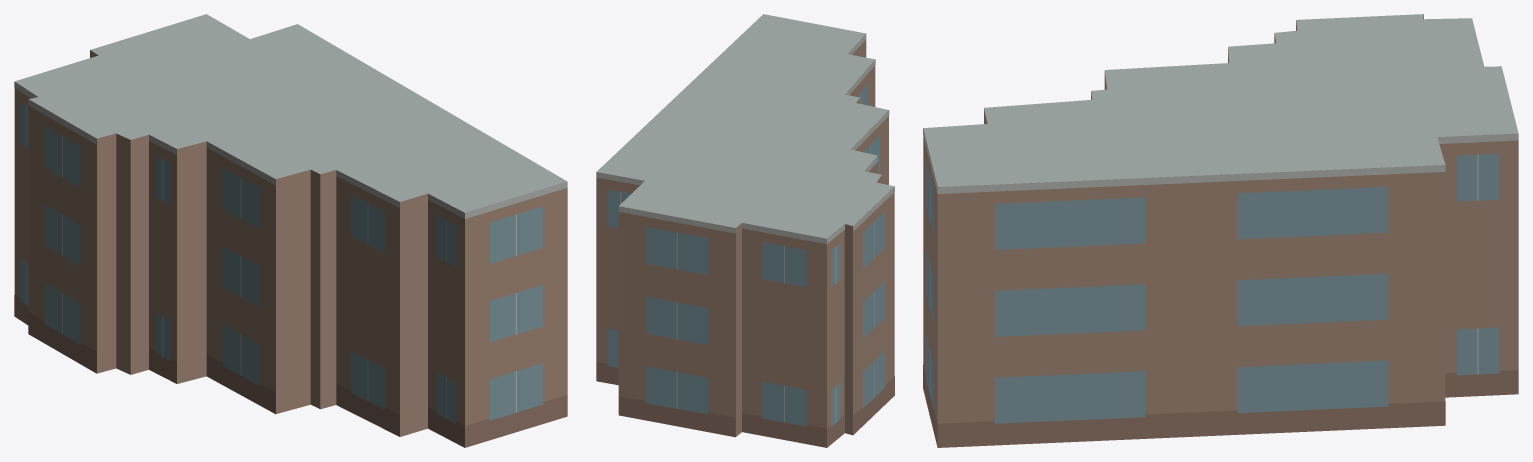
Rendered from survey-upis-32615687.glb.
3 views of the same model, side by side, from view 1: azimuth 30°, elevation 25°; view 2: azimuth 150°, elevation 25°; view 3: azimuth 270°, elevation 25° (orthographic). The views are drawn at different scales.
Visible parts, largest first — view 1: survey-upis-32615687.tmp; view 2: survey-upis-32615687.tmp; view 3: survey-upis-32615687.tmp.
Part boxes in pixels (<box>): survey-upis-32615687.tmp: <box>14,14,567,447</box>; survey-upis-32615687.tmp: <box>596,14,894,447</box>; survey-upis-32615687.tmp: <box>923,14,1518,447</box>.
Size of the model in its own units: 13.04 by 9.15 by 18.95.
